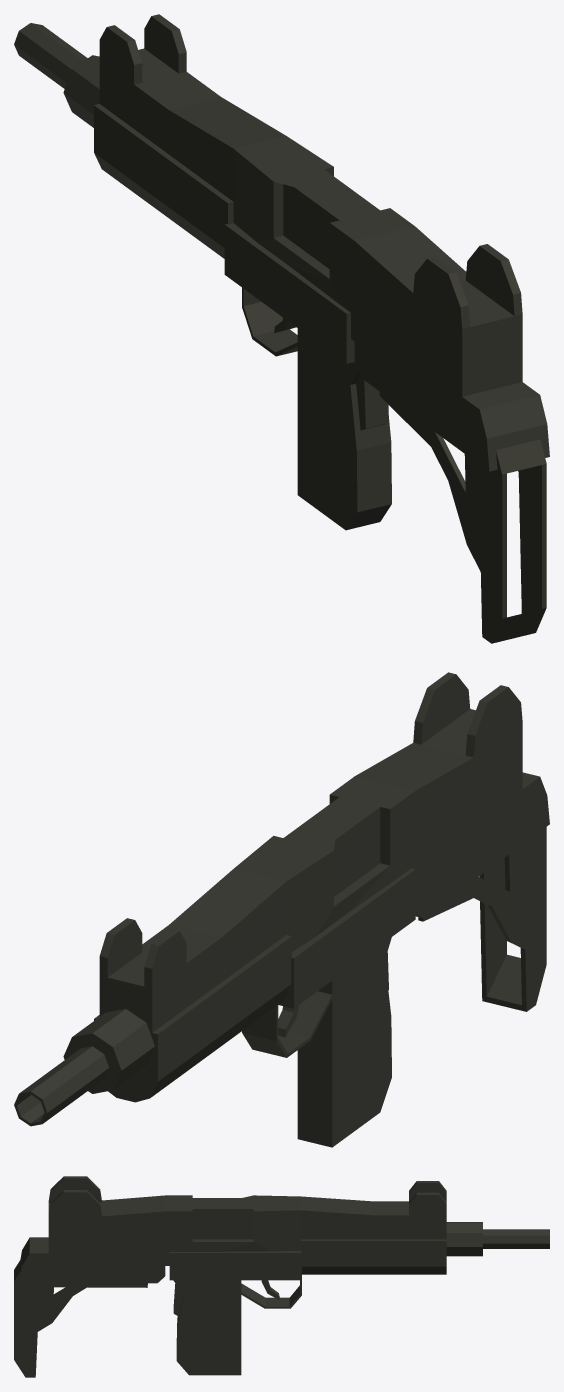
Rendered from 09_uzi.glb.
3 views of the same model, one above another, from view 1: azimuth 30°, elevation 25°; view 2: azimuth 150°, elevation 25°; view 3: azimuth 270°, elevation 25° (orthographic). The views are drawn at different scales.
Visible parts, largest first — view 1: items/09_uzi; view 2: items/09_uzi; view 3: items/09_uzi.
Boxes of the visible parts, left/top/right/bottom form: items/09_uzi: left=14, top=14, right=549, bottom=643; items/09_uzi: left=14, top=672, right=549, bottom=1147; items/09_uzi: left=14, top=1176, right=549, bottom=1377.
Size of the model in its own units: 0.0381 by 0.1821 by 0.4712.
Materials: 1 (1 with a texture image).
